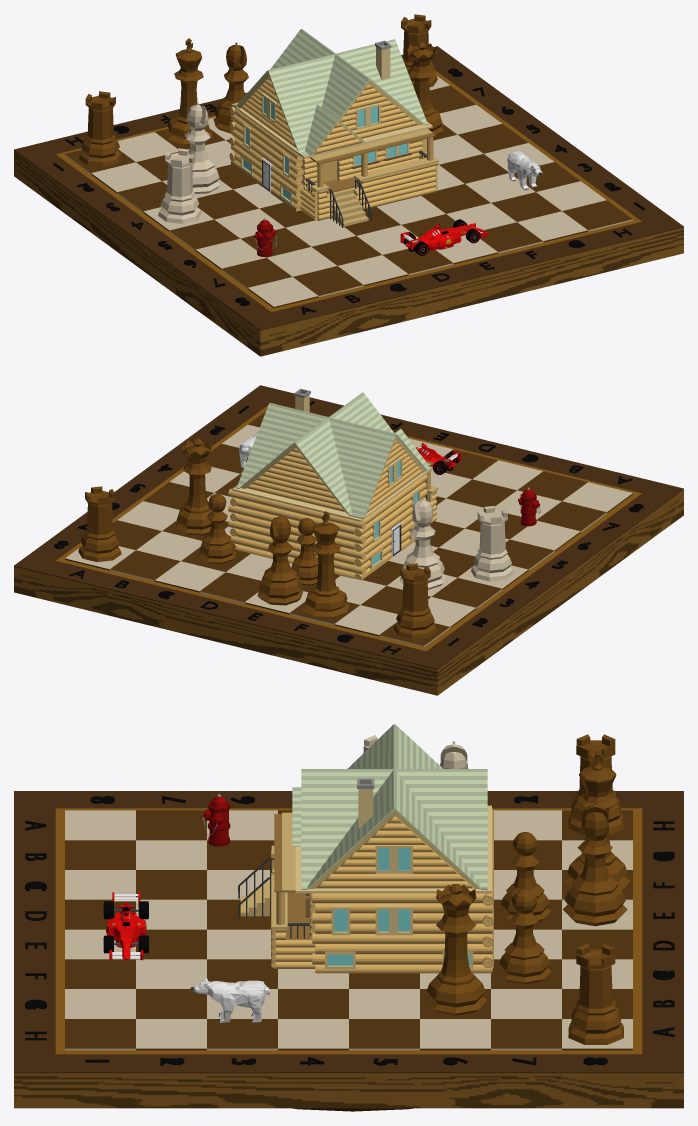
3 views of the same model, one above another, from view 1: azimuth 30°, elevation 25°; view 2: azimuth 150°, elevation 25°; view 3: azimuth 270°, elevation 25° (orthographic). The views are drawn at different scales.
Visible parts, largest first — view 1: Cube.002, Cube.1516, VEHICLES_FORMULA_1, ANIMAL_OSO_POLAR, OBJRANDOM_FIRE_HYDRANT; view 2: Cube.002, Cube.1516, VEHICLES_FORMULA_1, OBJRANDOM_FIRE_HYDRANT; view 3: Cube.002, Cube.1516, VEHICLES_FORMULA_1, ANIMAL_OSO_POLAR, OBJRANDOM_FIRE_HYDRANT.
Part boxes in pixels (x1=…): Cube.002: x1=14, y1=14, x2=683, y2=356; Cube.1516: x1=229, y1=29, x2=439, y2=227; VEHICLES_FORMULA_1: x1=400, y1=219, x2=487, y2=255; ANIMAL_OSO_POLAR: x1=507, y1=151, x2=542, y2=189; OBJRANDOM_FIRE_HYDRANT: x1=254, y1=218, x2=276, y2=256; Cube.002: x1=14, y1=385, x2=683, y2=695; Cube.1516: x1=228, y1=388, x2=438, y2=580; VEHICLES_FORMULA_1: x1=416, y1=443, x2=460, y2=474; OBJRANDOM_FIRE_HYDRANT: x1=518, y1=487, x2=540, y2=526; Cube.002: x1=14, y1=734, x2=683, y2=1108; Cube.1516: x1=238, y1=724, x2=493, y2=973; VEHICLES_FORMULA_1: x1=103, y1=892, x2=148, y2=960; ANIMAL_OSO_POLAR: x1=190, y1=978, x2=269, y2=1022; OBJRANDOM_FIRE_HYDRANT: x1=202, y1=794, x2=230, y2=846.
Size of the model in its own units: 3981 by 1551 by 4012.
Materials: 41 (3 with a texture image).
